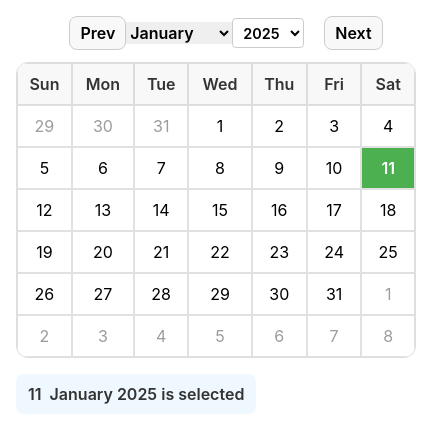
Calendar Component › moves to the previous month when clicking the Prev button
Click the button "Prev" at (98, 33), box [69,16,126,50]
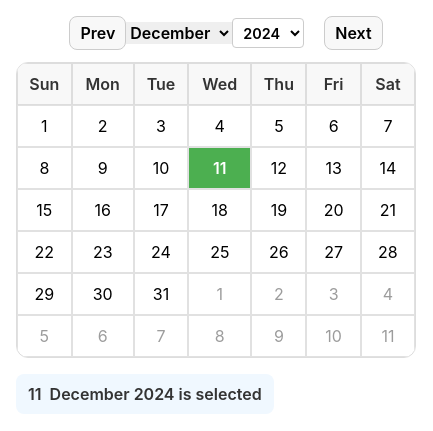
Expected: the dropdown showing "2024" is shown, [232,18,304,48]
